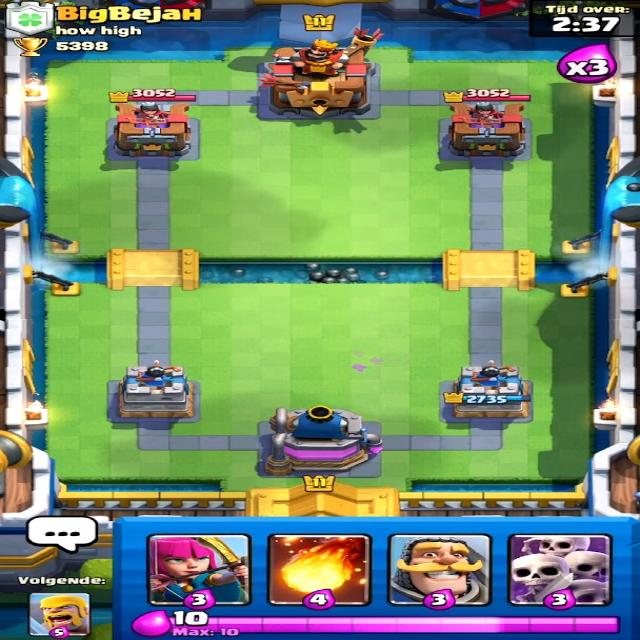Fireball_Card: (271, 533, 369, 607)
